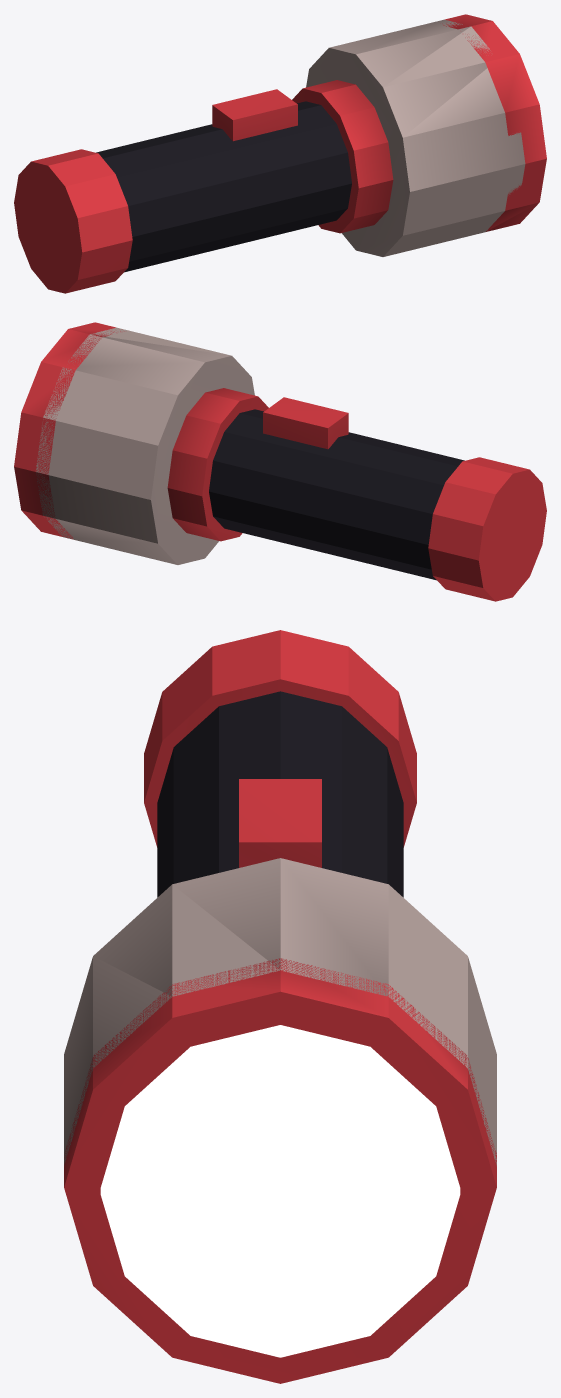
3 views of the same model, one above another, from view 1: azimuth 30°, elevation 25°; view 2: azimuth 150°, elevation 25°; view 3: azimuth 270°, elevation 25° (orthographic). The views are drawn at different scales.
Visible parts, largest first — view 1: body_pal_survivorRed, body_pal_sidewalk, body_pal_uiDark; view 2: body_pal_survivorRed, body_pal_sidewalk, body_pal_uiDark; view 3: body_emi_picketWhite, body_pal_survivorRed, body_pal_sidewalk, body_pal_uiDark.
Part boxes in pixels (x1,y1,x2,y2): body_pal_survivorRed: (14, 14, 546, 293); body_pal_sidewalk: (306, 19, 525, 256); body_pal_uiDark: (96, 101, 351, 272); body_pal_survivorRed: (14, 322, 546, 601); body_pal_sidewalk: (36, 327, 254, 564); body_pal_uiDark: (209, 409, 464, 580); body_emi_picketWhite: (100, 1025, 460, 1357); body_pal_survivorRed: (64, 630, 496, 1383); body_pal_sidewalk: (64, 858, 496, 1165); body_pal_uiDark: (157, 691, 403, 897).
Size of the model in its own units: 0.3135 by 0.13 by 0.13.
